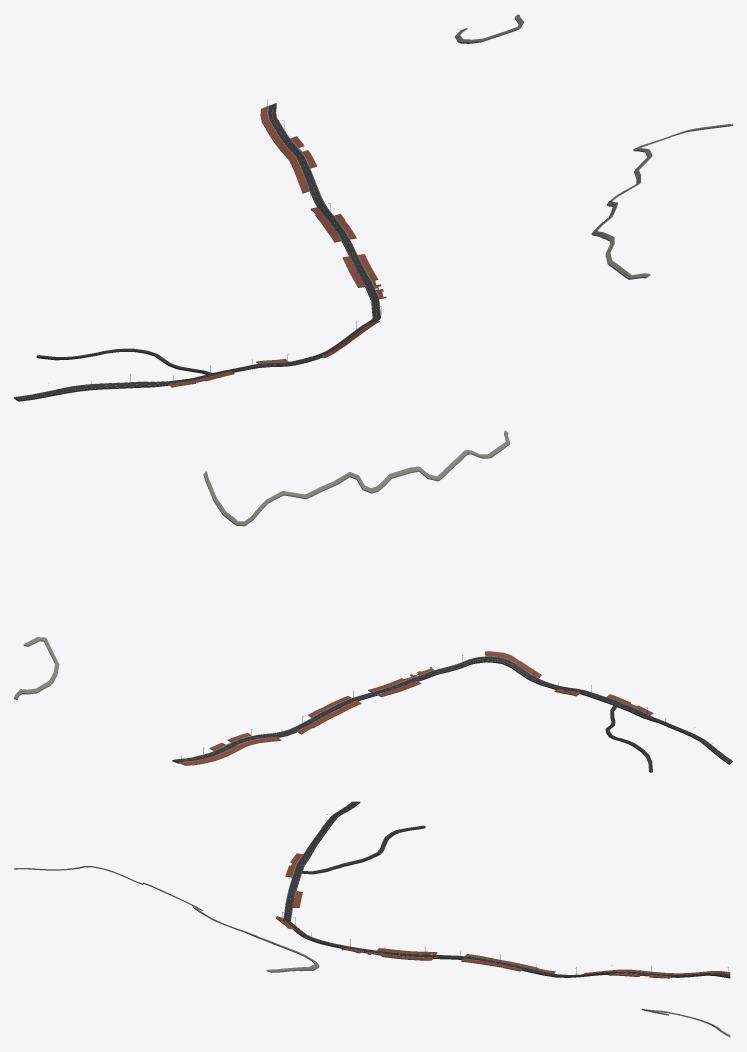
The picture shows the model from 3 angles, top to bottom: view 1: azimuth 30°, elevation 25°; view 2: azimuth 150°, elevation 25°; view 3: azimuth 270°, elevation 25°; orthographic projection. The views are drawn at different scales.
Bounding box in the file's own units: 587 × 130 × 585.
